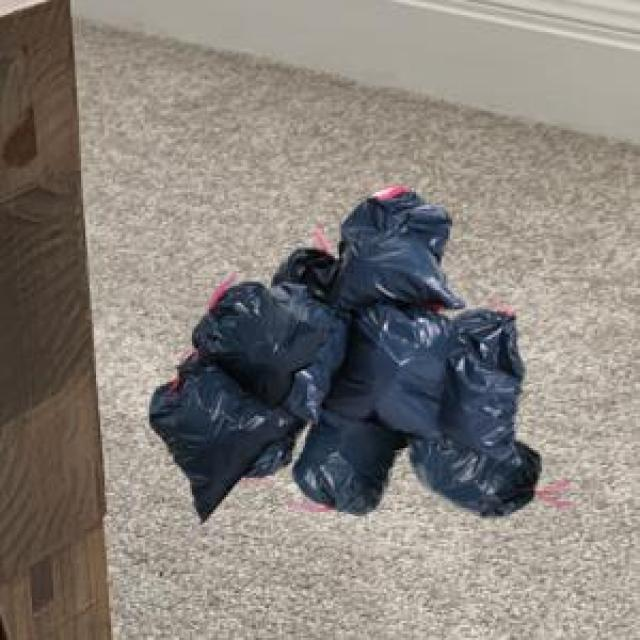waste: (149, 188, 541, 521)
